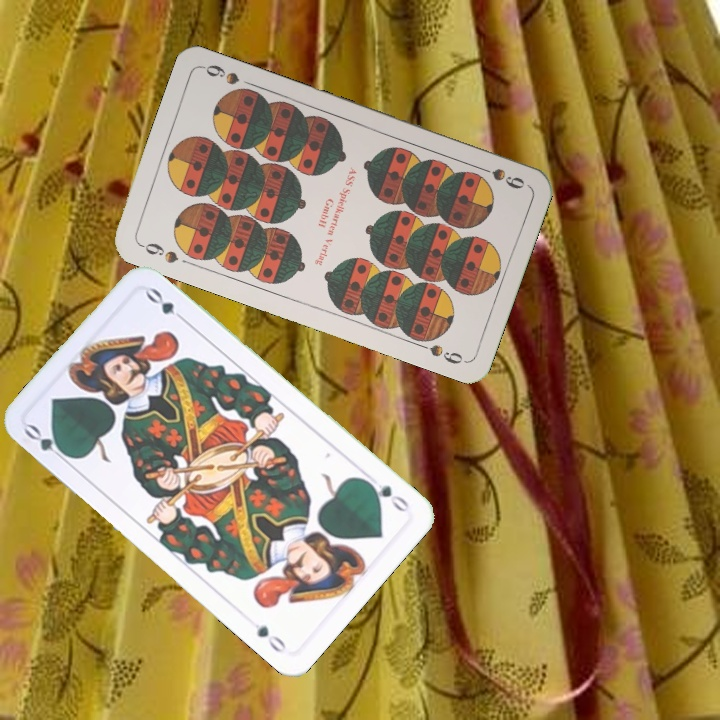GO: (20, 420, 74, 466), (360, 475, 412, 515)
S9: (471, 161, 527, 192), (135, 238, 181, 266)
